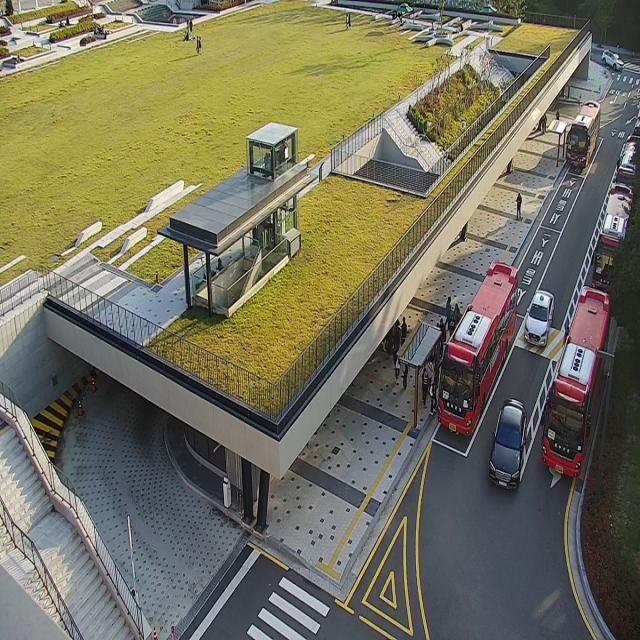queue: (414, 302, 460, 428)
